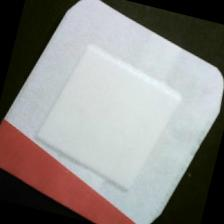Dressing: (1, 1, 224, 224)
Red_T: (1, 114, 178, 224)
